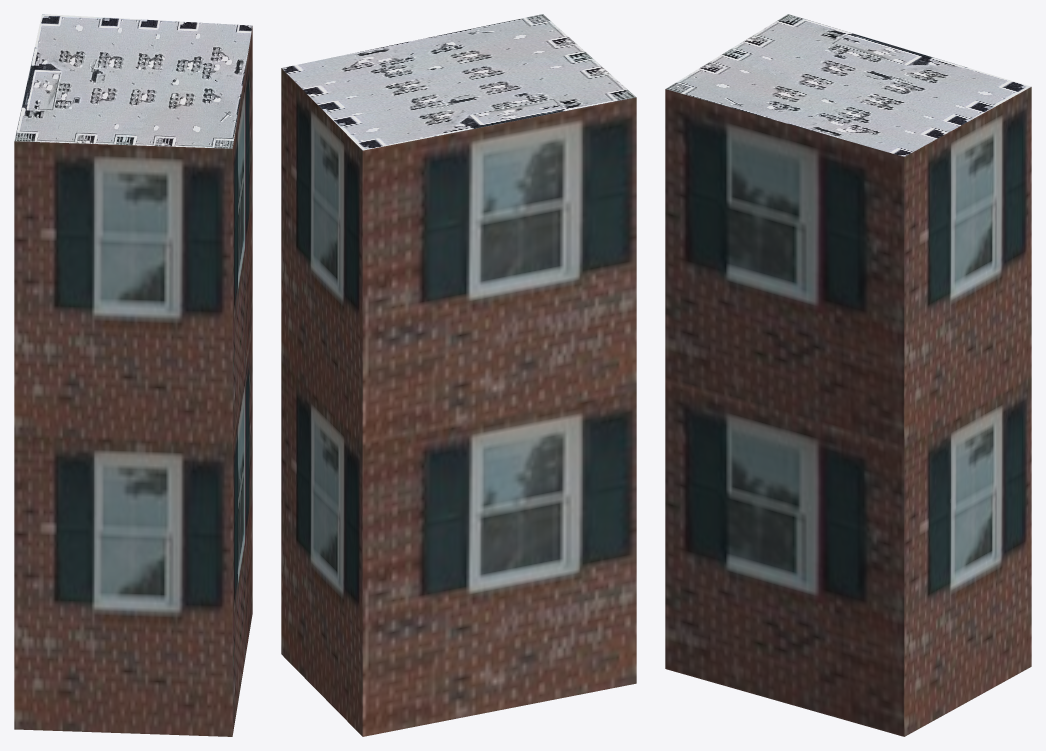
File: ResTex__4410.fbx
The picture shows the model from 3 angles, left to right: view 1: azimuth 30°, elevation 25°; view 2: azimuth 150°, elevation 25°; view 3: azimuth 270°, elevation 25°; orthographic projection.
Visible parts, largest first — view 1: CityEngineMaterial_14_m, CityEngineMaterial_8_m; view 2: CityEngineMaterial_14_m, CityEngineMaterial_8_m; view 3: CityEngineMaterial_14_m, CityEngineMaterial_8_m.
Part boxes in pixels (x1,y1,x2,y2): CityEngineMaterial_14_m: [14, 26, 252, 736]; CityEngineMaterial_8_m: [14, 14, 252, 148]; CityEngineMaterial_14_m: [281, 68, 636, 736]; CityEngineMaterial_8_m: [282, 14, 635, 150]; CityEngineMaterial_14_m: [665, 87, 1031, 736]; CityEngineMaterial_8_m: [666, 14, 1030, 156].
Size of the model in its own units: 3.17 by 6 by 3.43.
2 materials, 2 textured.
